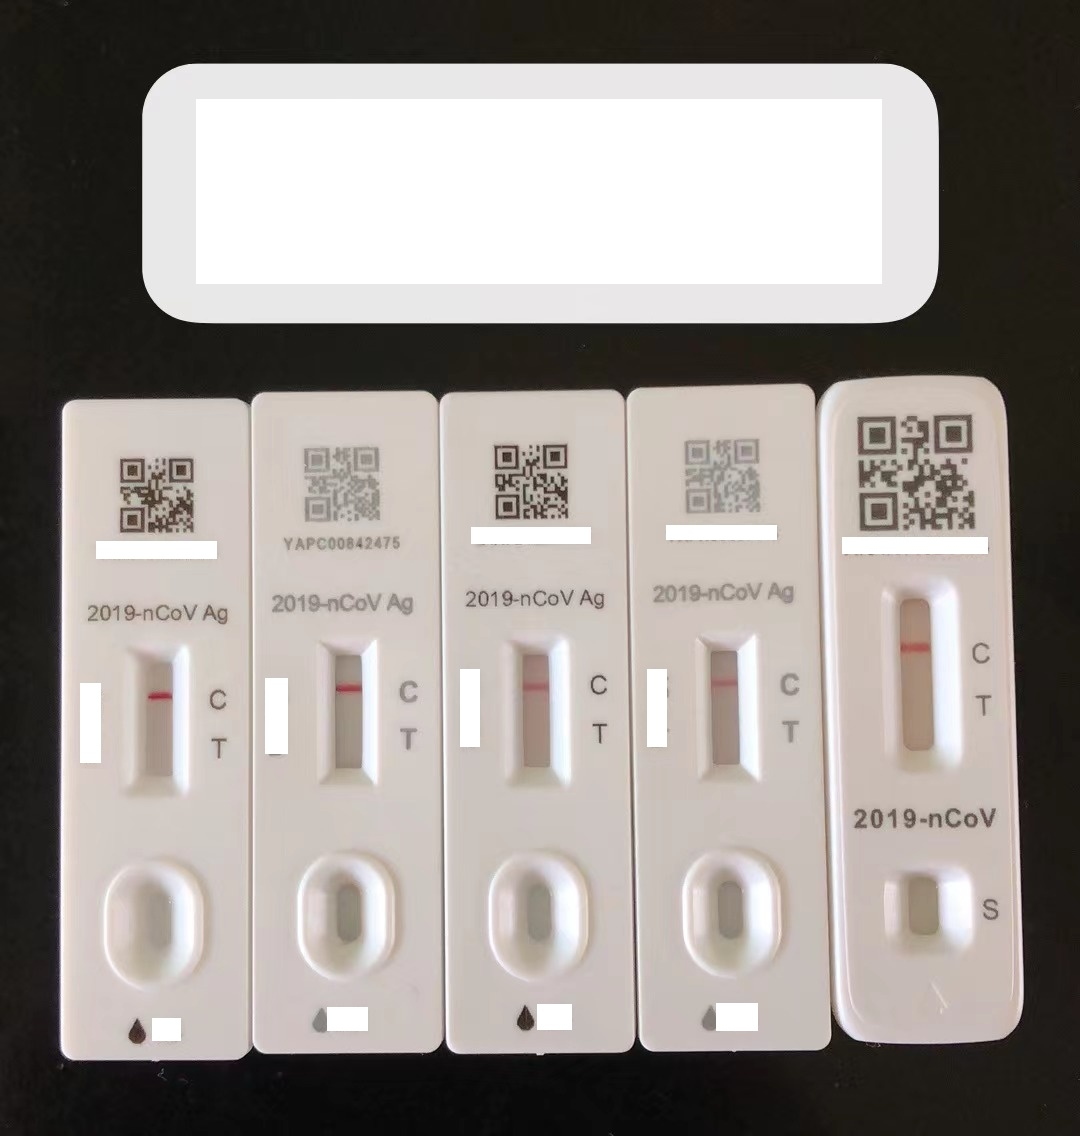negative: (880, 581, 958, 771), (694, 626, 761, 789), (503, 635, 573, 786), (316, 630, 381, 790), (123, 645, 188, 798)
